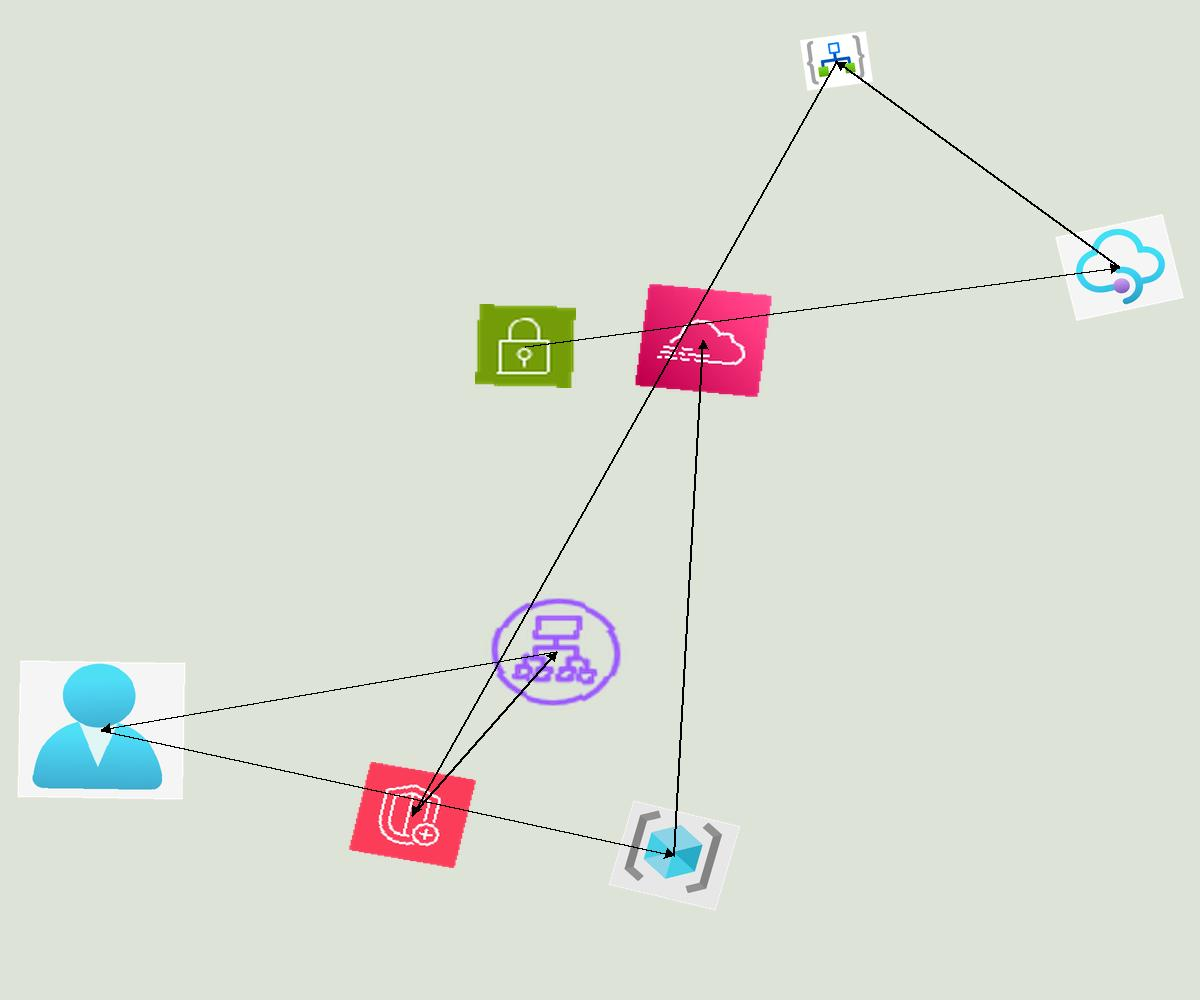AWS-CloudTrail: (634, 283, 773, 398)
AWS-Public-subnet: (475, 304, 576, 388)
AWS-Res_Elastic-Load-Balancing_Application-Load-Balancer: (480, 589, 632, 715)
AWS-Shield: (348, 761, 477, 869)
Azure_api_gateway: (1055, 214, 1184, 321)
Azure_integration-204-Logic-Apps: (800, 31, 873, 91)
Azure_resource_group: (608, 800, 741, 911)
Azure_users: (17, 660, 186, 800)
